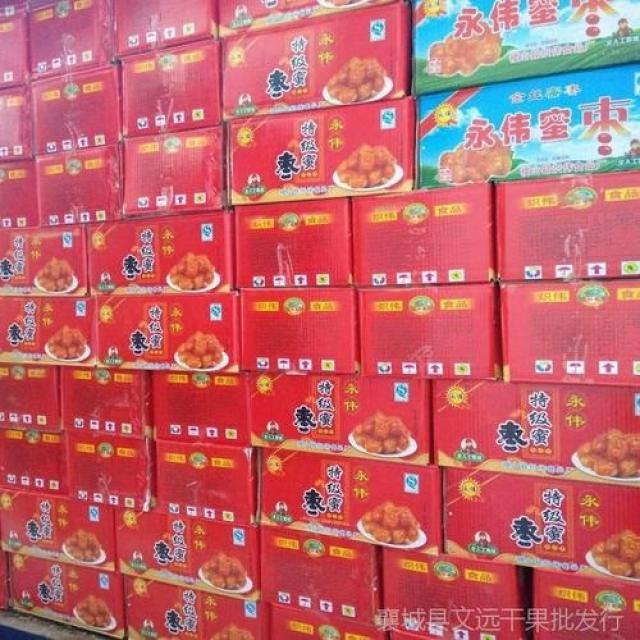box: (413, 60, 640, 189), (220, 0, 412, 123), (431, 378, 640, 489), (442, 468, 640, 584), (227, 99, 417, 209), (257, 448, 444, 556), (248, 372, 433, 465), (492, 168, 640, 282), (497, 279, 640, 388), (351, 183, 494, 285), (356, 279, 500, 380), (379, 547, 527, 640), (114, 506, 260, 600), (257, 522, 383, 627), (84, 210, 236, 294), (96, 291, 241, 372), (234, 197, 353, 291), (236, 285, 360, 374), (120, 38, 221, 138), (8, 553, 125, 639), (123, 124, 225, 219), (0, 490, 115, 571), (125, 576, 271, 639), (154, 439, 259, 524), (35, 59, 123, 157), (27, 0, 114, 87), (530, 571, 640, 639), (152, 371, 253, 445), (35, 140, 125, 223), (219, 1, 404, 40), (64, 435, 157, 508), (0, 296, 96, 366), (0, 223, 90, 297), (60, 369, 155, 435), (1, 428, 68, 498), (0, 366, 61, 435), (271, 607, 387, 640), (0, 157, 38, 227), (0, 1, 29, 90), (0, 87, 33, 164), (388, 630, 436, 640), (0, 553, 8, 609)
